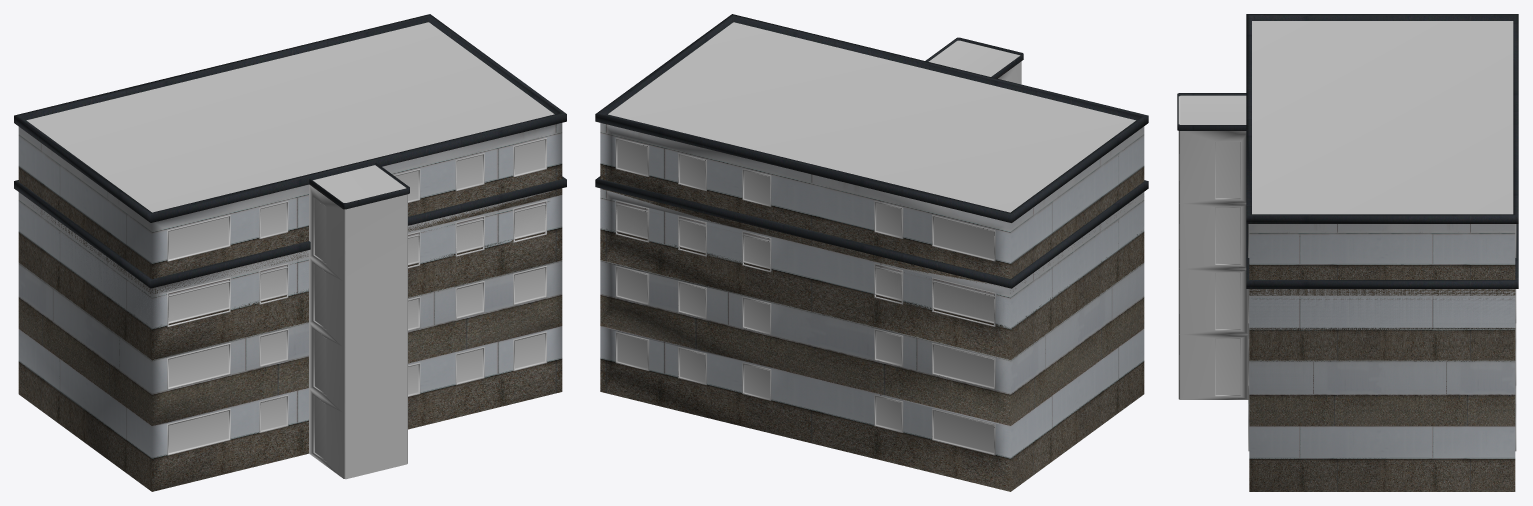
File: mehrfamilienhaus_04a.fbx
3 views of the same model, side by side, from view 1: azimuth 30°, elevation 25°; view 2: azimuth 150°, elevation 25°; view 3: azimuth 270°, elevation 25° (orthographic).
Visible parts, largest first — view 1: mehrfamilienhaus_04b, mehrfamilienhaus_04a; view 2: mehrfamilienhaus_04b, mehrfamilienhaus_04a; view 3: mehrfamilienhaus_04b, mehrfamilienhaus_04a.
Part boxes in pixels (x1,y1,x2,y2): mehrfamilienhaus_04b: (14,14,566,491); mehrfamilienhaus_04a: (14,176,566,491); mehrfamilienhaus_04b: (595,14,1148,491); mehrfamilienhaus_04a: (595,176,1148,491); mehrfamilienhaus_04b: (1177,14,1518,491); mehrfamilienhaus_04a: (1246,224,1518,491).
Size of the model in its own units: 1544 by 986 by 1101.
